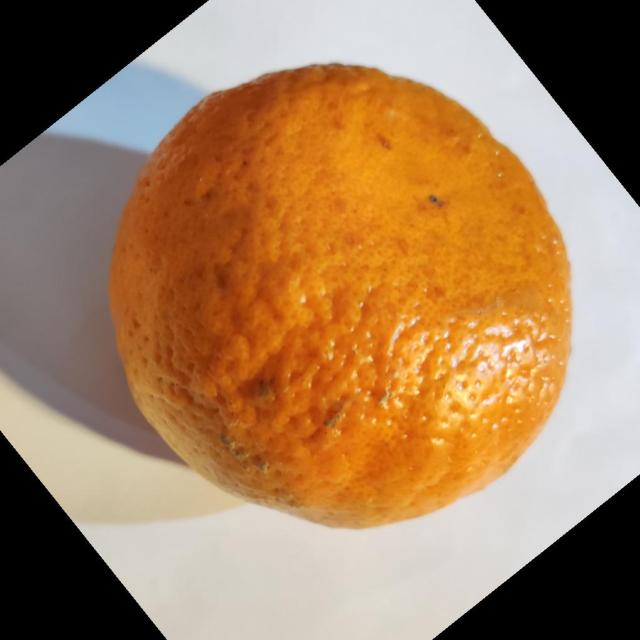fresh orange: (106, 61, 574, 529)
